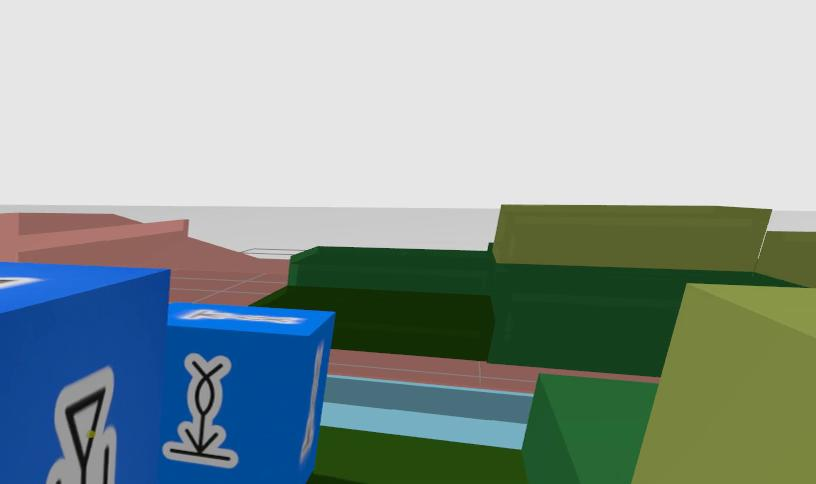KFS_REAL: (0, 262, 167, 484), (158, 303, 333, 484), (163, 353, 236, 467), (47, 367, 117, 484)
